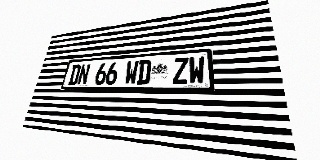6: (105, 62, 119, 85), (94, 63, 108, 85)
D: (136, 60, 152, 85), (68, 64, 81, 85)
N: (77, 64, 91, 85)
W: (189, 56, 205, 84), (124, 60, 139, 85)
Z: (173, 57, 188, 84)
